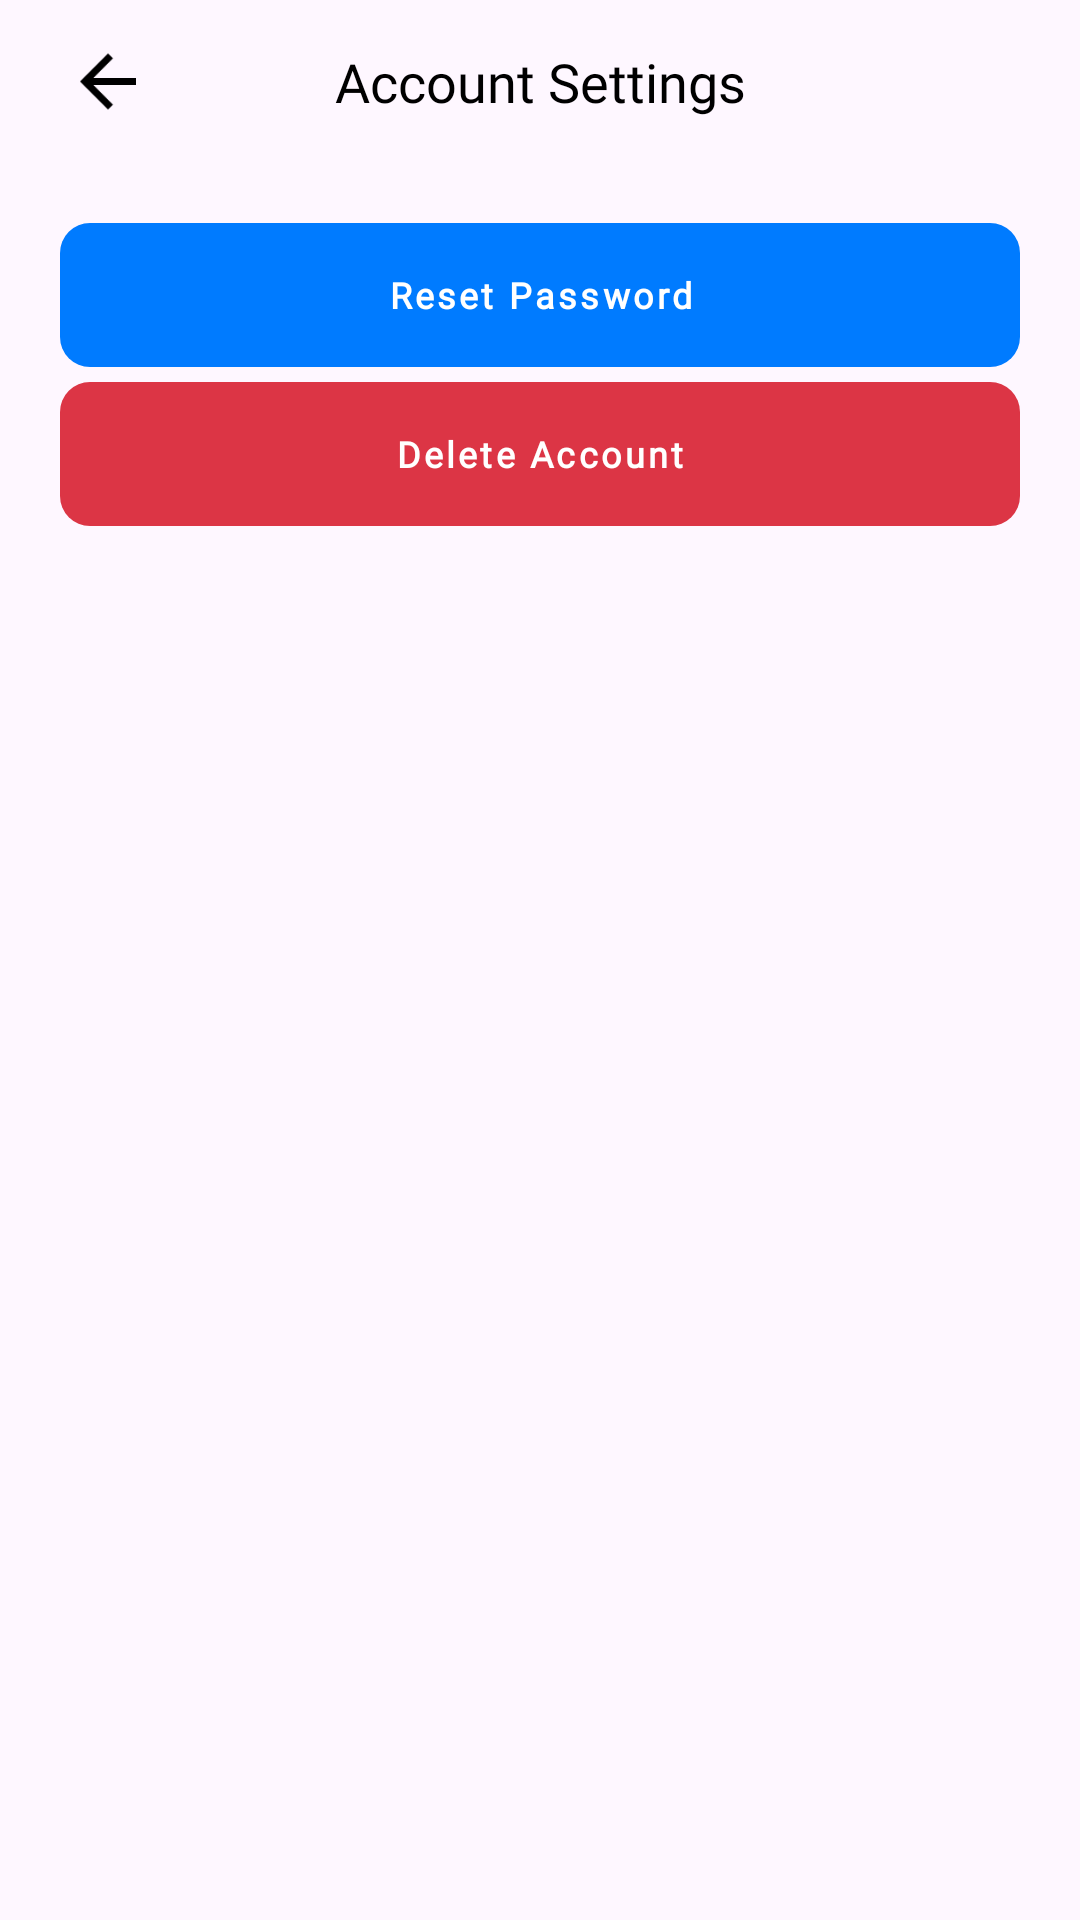

Icons on this 1080 x 1920 Android screen, each with the point to tap as (x,y):
arrow back: (108,81)
